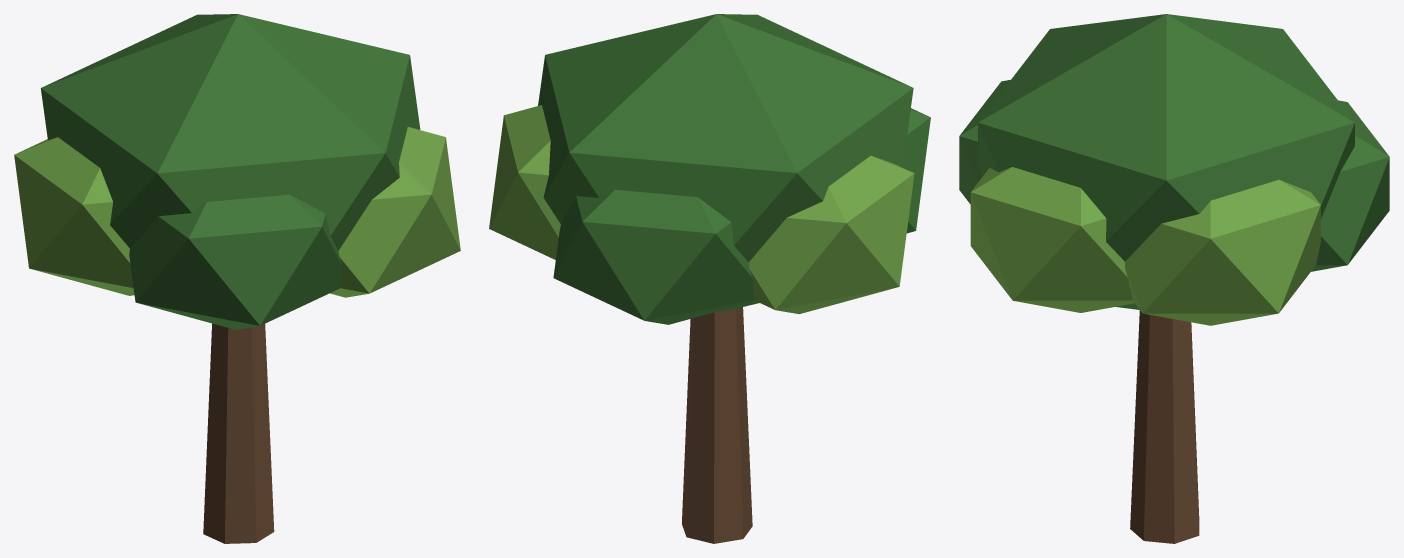
The model's file is VG_Tree_Oak.fbx.
3 views of the same model, side by side, from view 1: azimuth 30°, elevation 25°; view 2: azimuth 150°, elevation 25°; view 3: azimuth 270°, elevation 25° (orthographic).
Parts seen in each view (by area): view 1: VG_Tree_Oak_Mesh; view 2: VG_Tree_Oak_Mesh; view 3: VG_Tree_Oak_Mesh.
Part boxes in pixels (bbox=[...]): VG_Tree_Oak_Mesh: bbox=[14, 14, 460, 543]; VG_Tree_Oak_Mesh: bbox=[489, 14, 930, 543]; VG_Tree_Oak_Mesh: bbox=[959, 14, 1389, 543].
Bounding box in the file's own units: 4.65 × 5.92 × 4.49.
